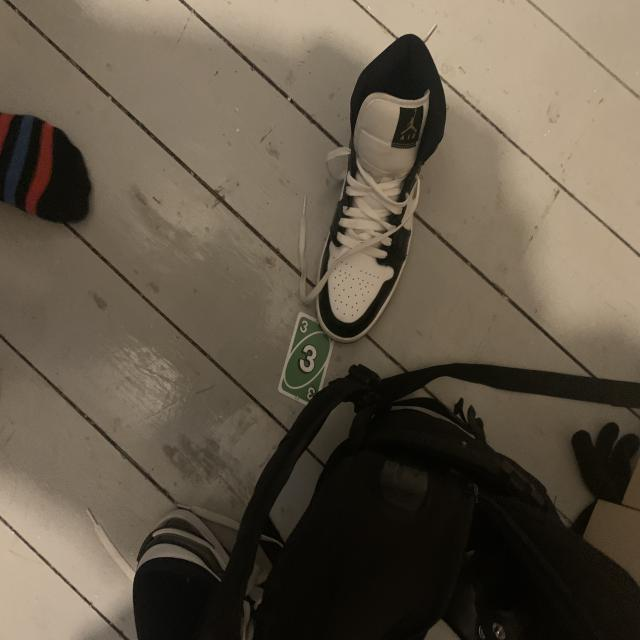lgreen-3: (298, 317, 310, 337)
